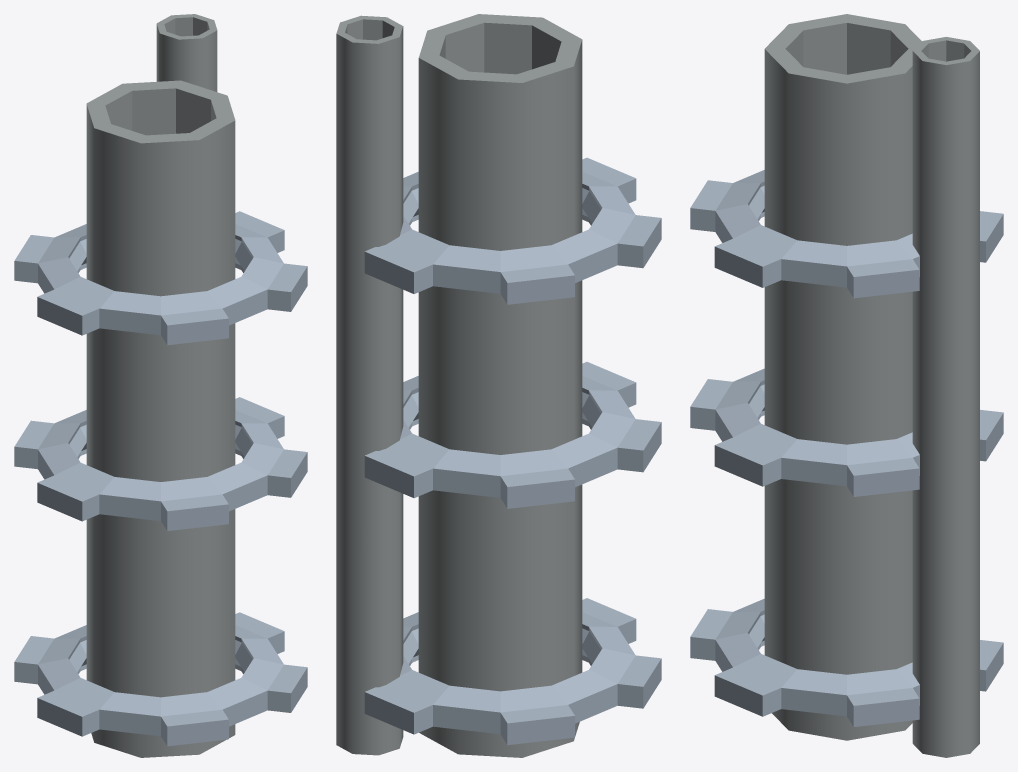
File: SM_gear_part.fbx
3 renders of one model, left to right at view 1: azimuth 30°, elevation 25°; view 2: azimuth 150°, elevation 25°; view 3: azimuth 270°, elevation 25°, orthographic. The views are drawn at different scales.
Visible parts, largest first — view 1: gear_part; view 2: gear_part; view 3: gear_part.
Boxes of the visible parts, left/top/right/bottom form: gear_part: left=14, top=14, right=307, bottom=757; gear_part: left=336, top=14, right=661, bottom=757; gear_part: left=690, top=14, right=1003, bottom=757.
Size of the model in its own units: 84.49 by 206 by 84.49.
